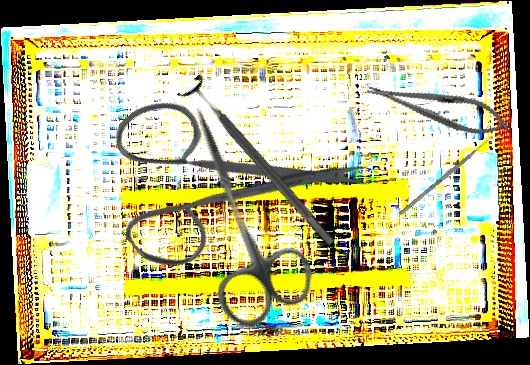Fixation Ring: (175, 72, 345, 255)
Iris Scissors: (66, 19, 377, 328), (148, 91, 323, 335)
Needle Holder: (362, 70, 514, 144)
Pusher: (398, 131, 498, 217)
